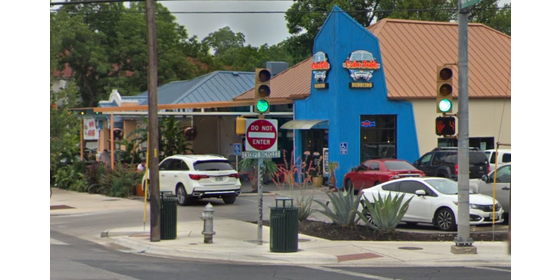do not enter sign: (244, 116, 280, 153)
